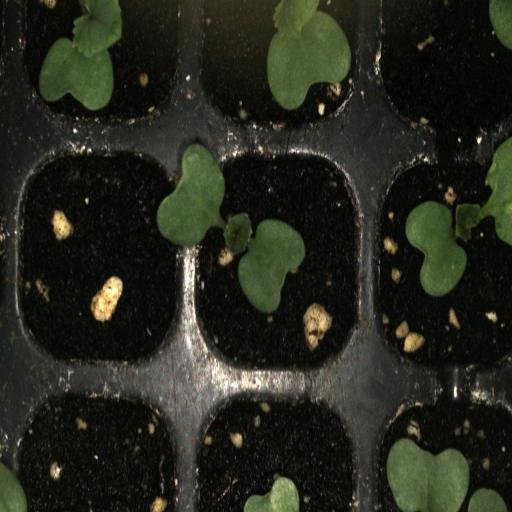noseedling: (7, 140, 190, 376)
seedling: (190, 137, 367, 379), (365, 133, 512, 376), (13, 0, 190, 138), (192, 0, 370, 135)
